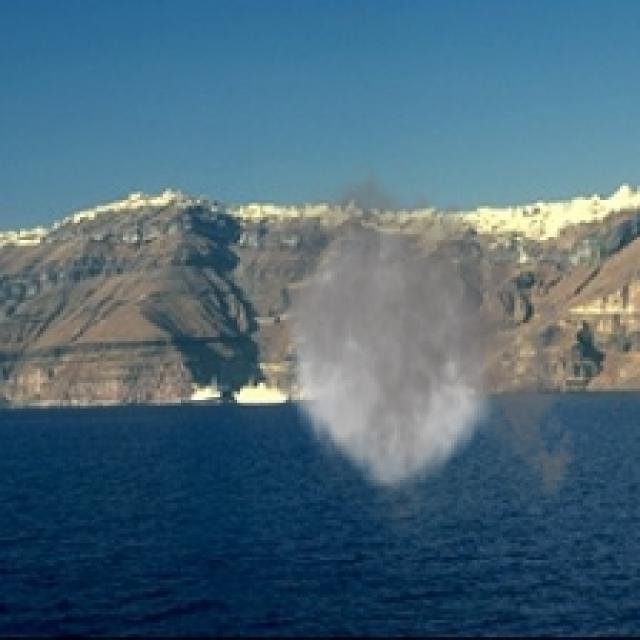smoke: (231, 148, 586, 563)
